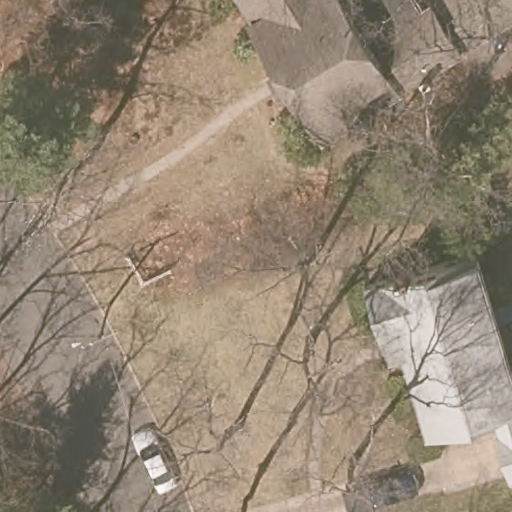DT: (70, 331, 118, 353)
